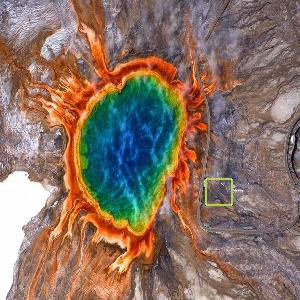square: (203, 176, 235, 207)
